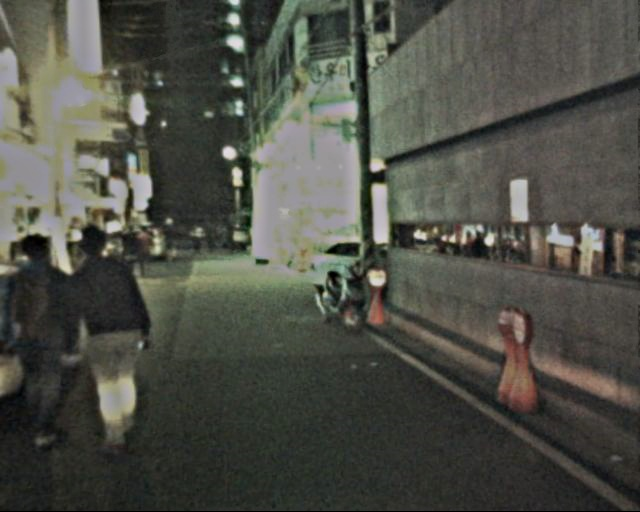person: (58, 222, 160, 452), (187, 217, 235, 257), (136, 221, 161, 280), (121, 220, 141, 280), (161, 215, 182, 266)
